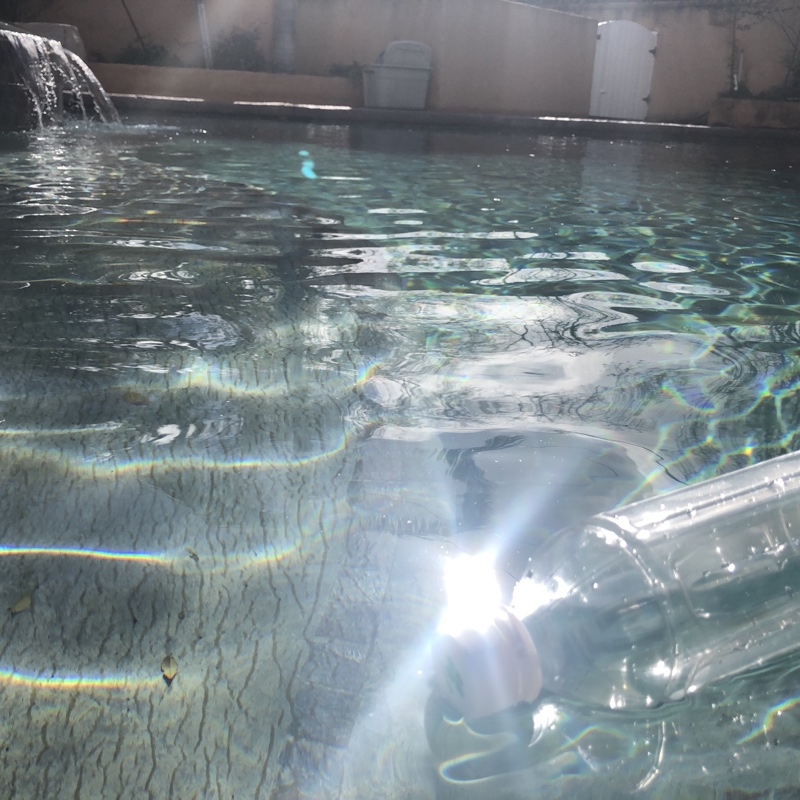Plastic Bottle: (428, 429, 800, 721)
